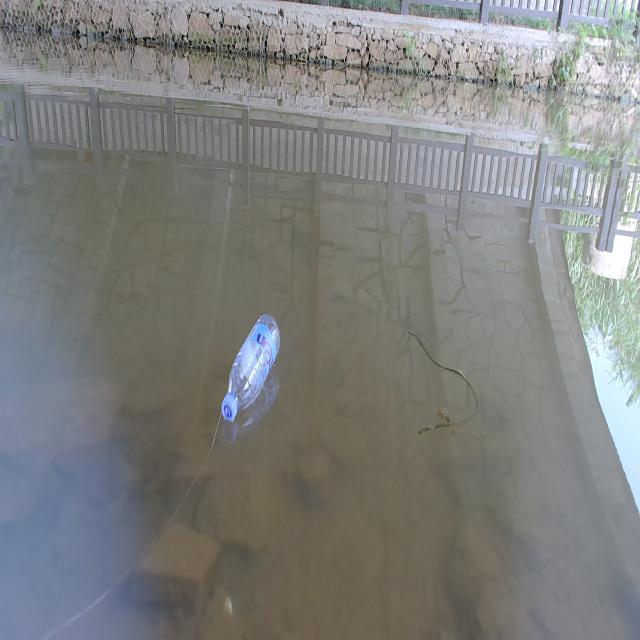garbage: (220, 312, 280, 424)
